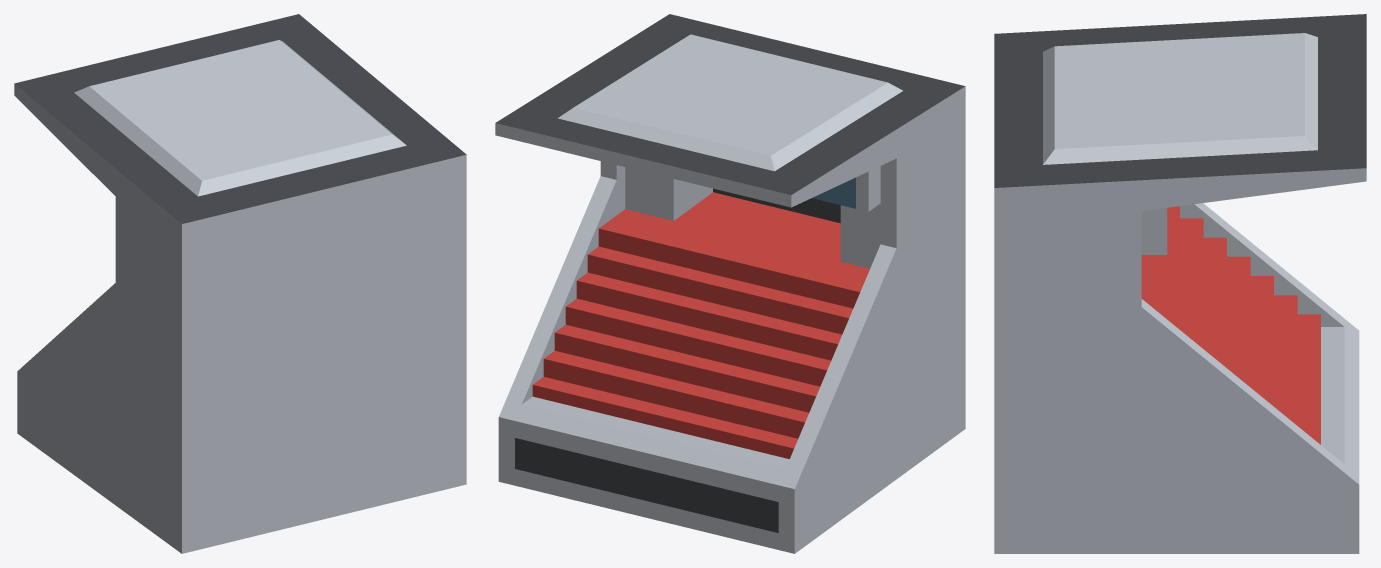
The model's file is grandstand_covered.glb.
3 renders of one model, left to right at view 1: azimuth 30°, elevation 25°; view 2: azimuth 150°, elevation 25°; view 3: azimuth 270°, elevation 25°, orthographic. The views are drawn at different scales.
Parts seen in each view (by area): view 1: grandstand_covered; view 2: grandstand_covered; view 3: grandstand_covered.
Boxes of the visible parts, box(x1,y1,x2,y2) form: grandstand_covered: box(14, 14, 466, 553); grandstand_covered: box(495, 14, 965, 553); grandstand_covered: box(994, 14, 1366, 553).
Size of the model in its own units: 12 by 14.24 by 12.24.
